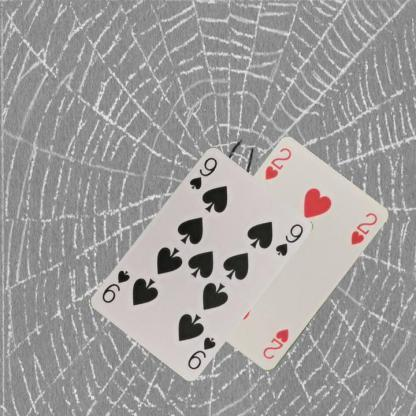2h: (262, 144, 293, 182), (260, 326, 290, 362)
9s: (185, 333, 217, 371), (186, 154, 219, 190)
